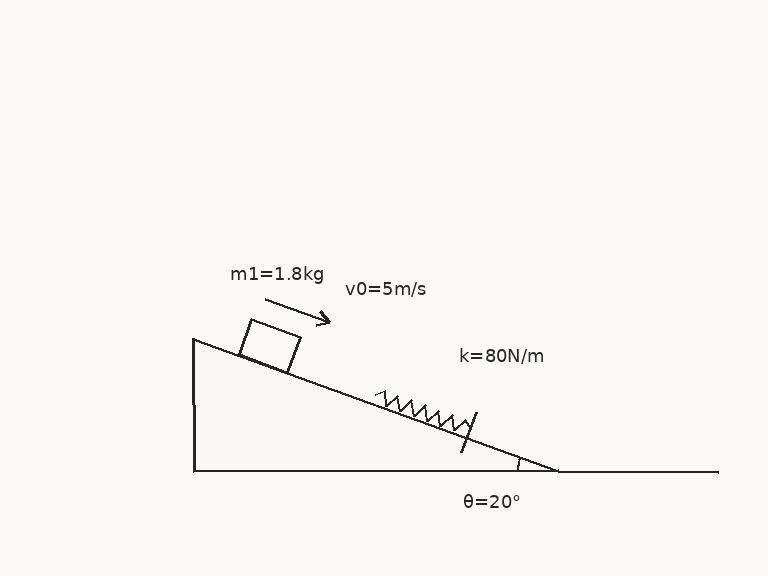block: (237, 318, 302, 374)
ramp: (191, 336, 560, 473)
spring: (373, 389, 472, 433)
